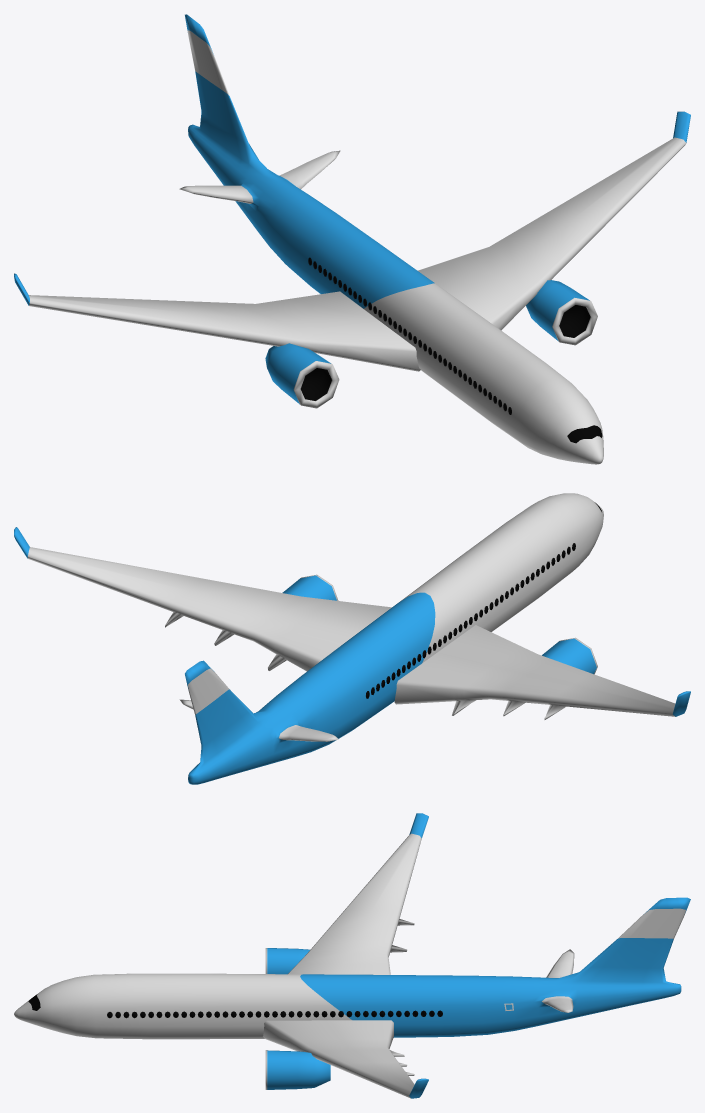
File: aiplane.fbx
3 renders of one model, top to bottom at view 1: azimuth 30°, elevation 25°; view 2: azimuth 150°, elevation 25°; view 3: azimuth 270°, elevation 25°, orthographic. The views are drawn at different scales.
Parts seen in each view (by area): view 1: Avion; view 2: Avion; view 3: Avion.
Boxes of the visible parts, x1,y1,x2,y2 form: Avion: (14, 14, 690, 464); Avion: (14, 493, 690, 784); Avion: (14, 813, 690, 1098).
Bounding box in the file's own units: 465 × 114 × 497.
